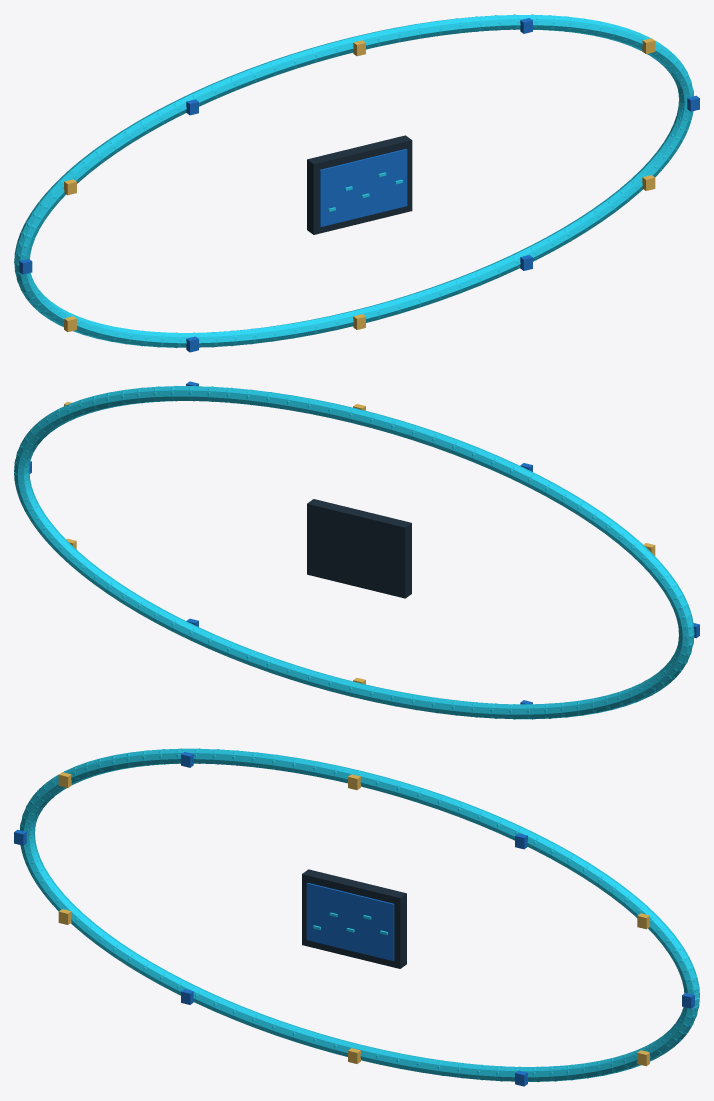
File: 70_L83_ThreeDimensionalEnergyFlowHologram.fbx
3 views of the same model, one above another, from view 1: azimuth 30°, elevation 25°; view 2: azimuth 150°, elevation 25°; view 3: azimuth 330°, elevation 25° (orthographic).
Visible parts, largest first — view 1: ThreeDimensionalEnergyFlowHologram, ThreeDimensionalEnergyFlowHologram_Part_0212, ThreeDimensionalEnergyFlowHologram_Part_0211; view 2: ThreeDimensionalEnergyFlowHologram, ThreeDimensionalEnergyFlowHologram_Part_0211; view 3: ThreeDimensionalEnergyFlowHologram, ThreeDimensionalEnergyFlowHologram_Part_0212, ThreeDimensionalEnergyFlowHologram_Part_0211.
Part boxes in pixels (x1,y1,x2,y2): ThreeDimensionalEnergyFlowHologram: (14,14,699,352); ThreeDimensionalEnergyFlowHologram_Part_0212: (319,149,407,226); ThreeDimensionalEnergyFlowHologram_Part_0211: (307,135,412,234); ThreeDimensionalEnergyFlowHologram: (14,381,699,719); ThreeDimensionalEnergyFlowHologram_Part_0211: (307,499,411,598); ThreeDimensionalEnergyFlowHologram: (14,748,699,1086); ThreeDimensionalEnergyFlowHologram_Part_0212: (306,883,394,961); ThreeDimensionalEnergyFlowHologram_Part_0211: (302,869,406,968).
Bounding box in the file's own units: 441 × 179 × 16.6.
